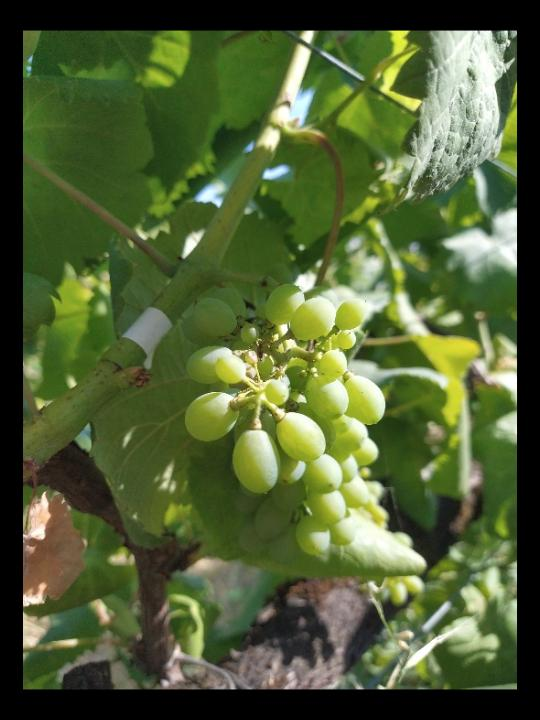grape: (174, 274, 387, 565)
